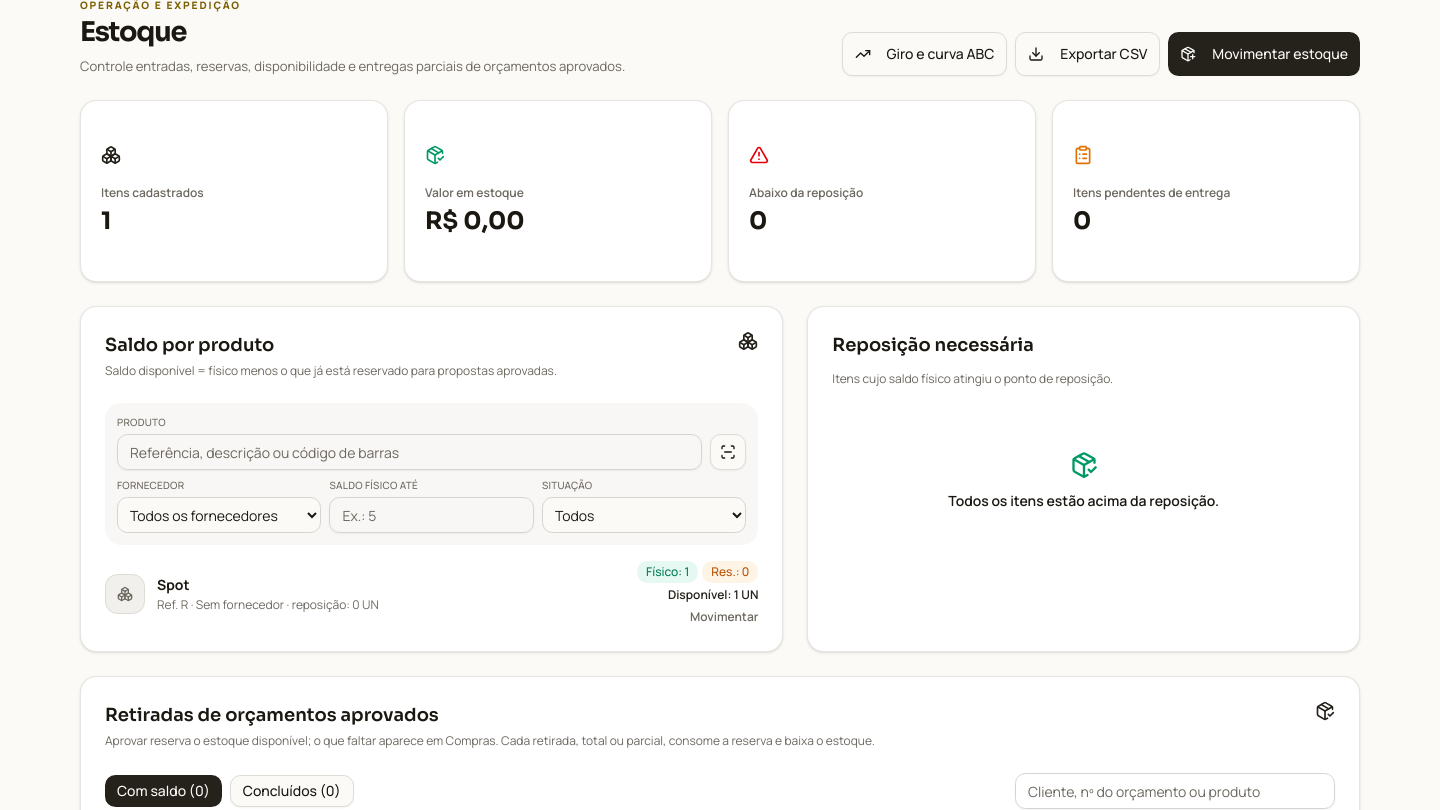
Scenario: InventoryPage › responsável pela movimentação é o usuário logado, sem edição
Click the button "Movimentar estoque": x=1264, y=54 [1168,32,1360,76]
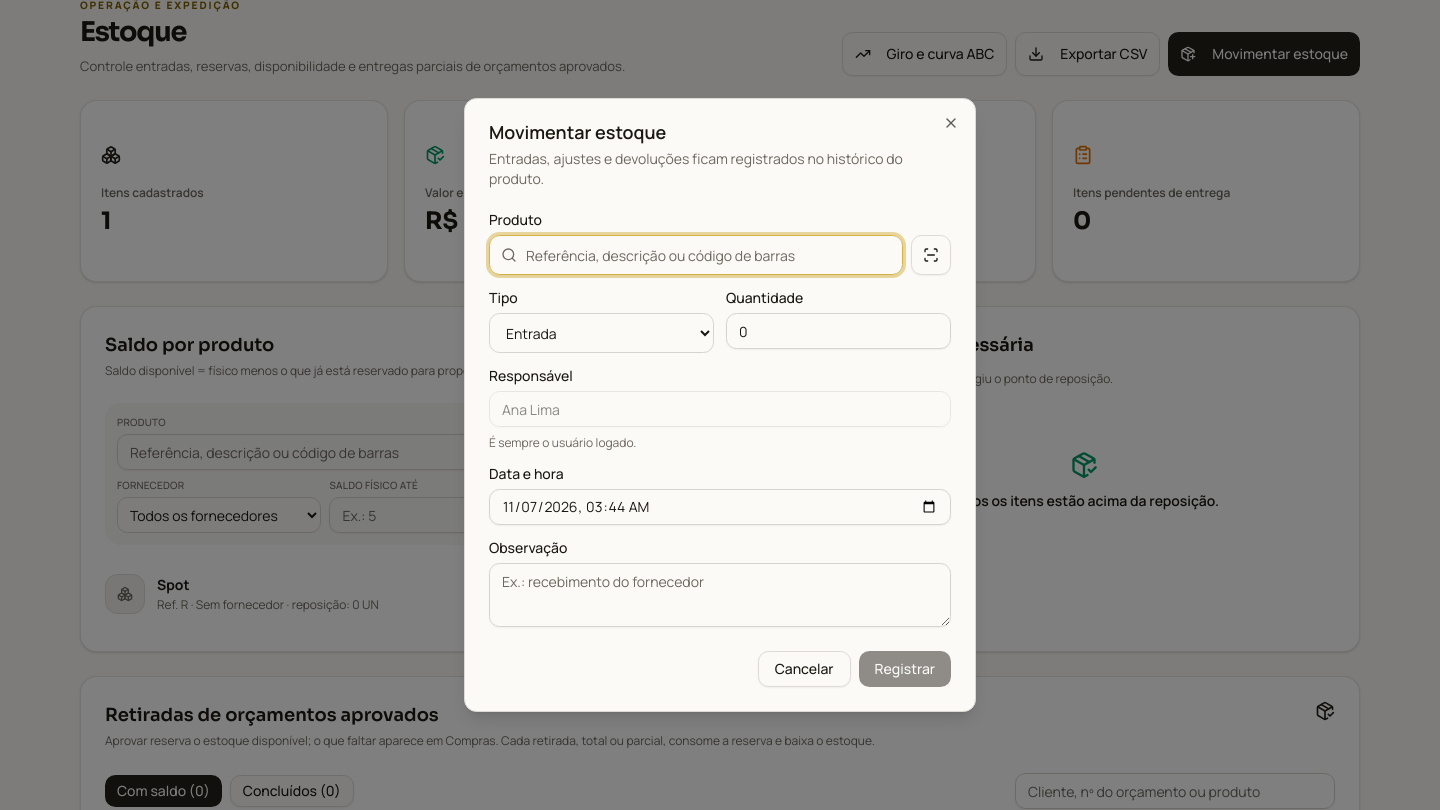
Now the field named "Responsável" holds "Ana Lima", box [489,391,951,427]
Now the field named "Responsável" is disabled, box [489,391,951,427]
